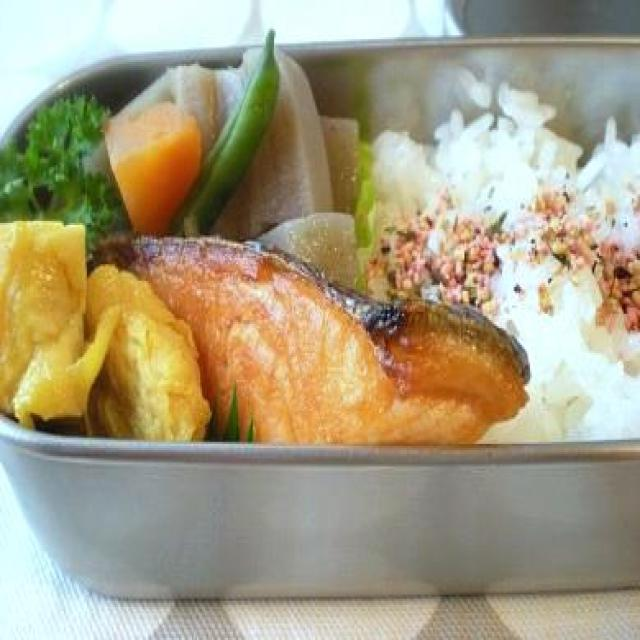熟制海鲜: (84, 213, 526, 477)
